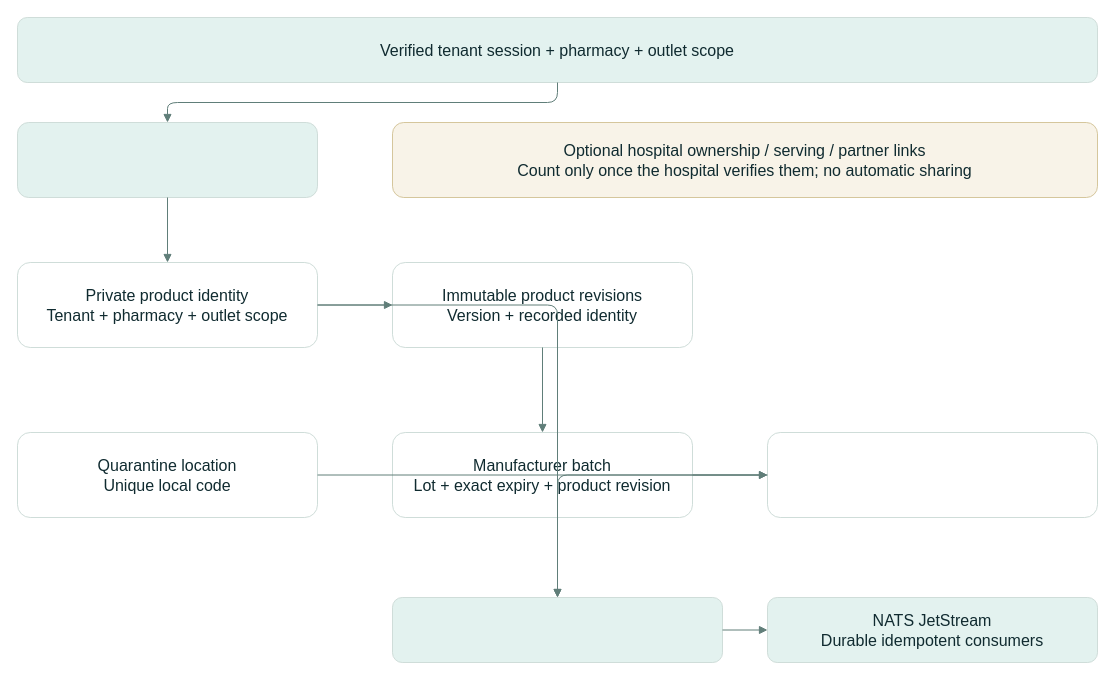
This 1115x680 diagram has some shape labels left out. Each missing label, with the centre of its shape:
"Append-only stock ledger Receipt / correction + source reference" goes at point (932, 475).
"Explicit outlet grant + route permission" goes at point (167, 160).
"PostgreSQL transactional outbox" goes at point (557, 629).
